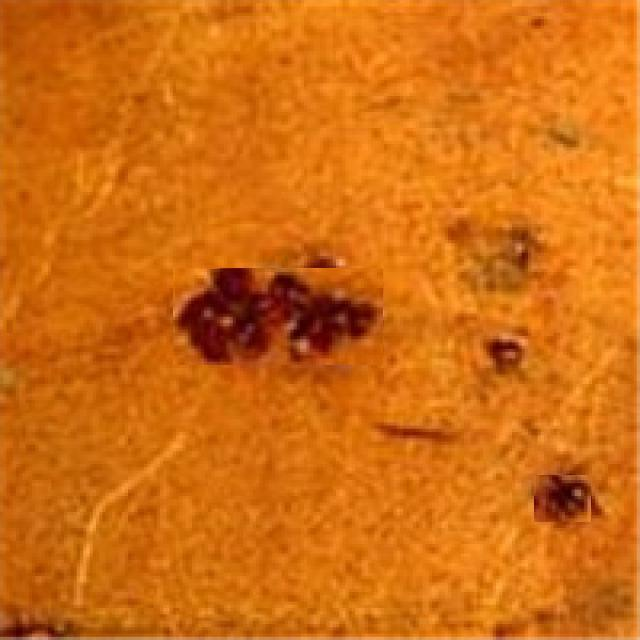Corrosion: (1, 0, 638, 637), (173, 258, 383, 364)
